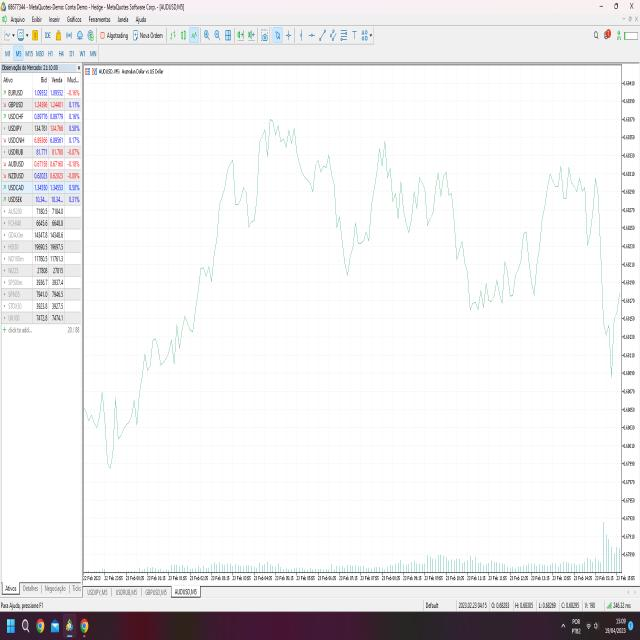oco_inv: (326, 174, 377, 283)
